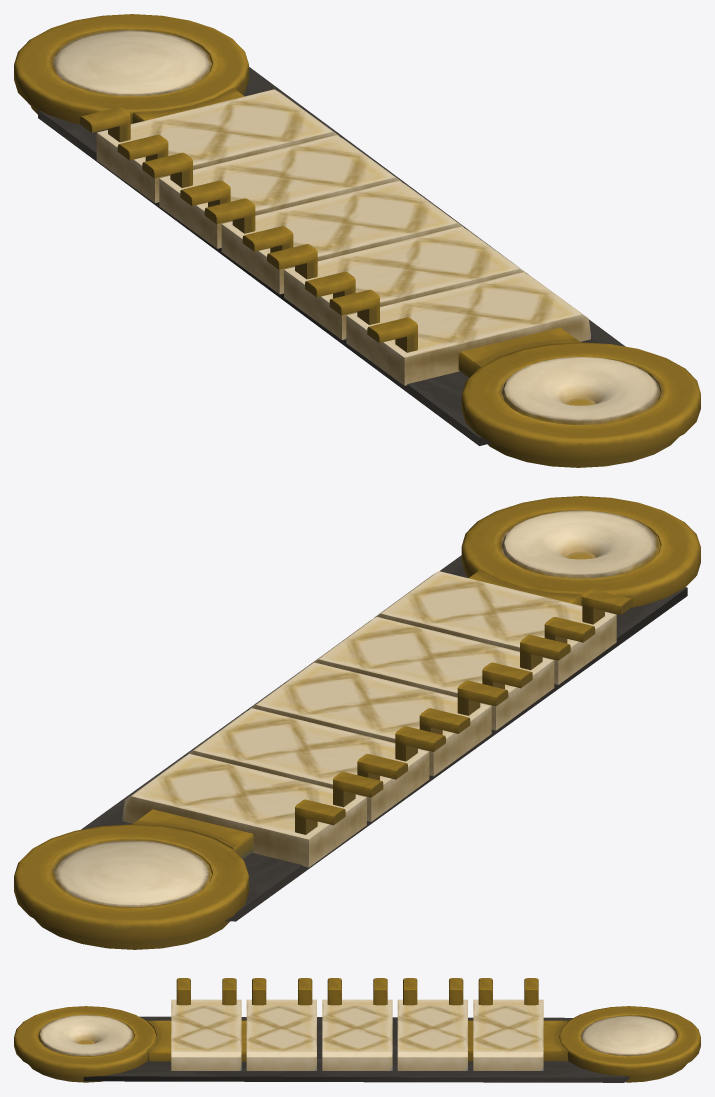
The model's file is LeftEssenceBar.fbx.
The picture shows the model from 3 angles, top to bottom: view 1: azimuth 30°, elevation 25°; view 2: azimuth 150°, elevation 25°; view 3: azimuth 270°, elevation 25°; orthographic projection. The views are drawn at different scales.
Visible parts, largest first — view 1: Box005, Component_Lookout_StoneMd, Component_Lookout_StoneMd002, Box010, Cylinder002; view 2: Box005, Component_Lookout_StoneMd002, Component_Lookout_StoneMd, Box010, Cylinder002; view 3: Box005, Component_Lookout_StoneMd, Component_Lookout_StoneMd002, Cylinder002, Box010.
Part boxes in pixels (bbox=[...]): Box005: bbox=[96, 89, 590, 385]; Component_Lookout_StoneMd: bbox=[458, 327, 700, 467]; Component_Lookout_StoneMd002: bbox=[14, 14, 248, 123]; Box010: bbox=[80, 107, 417, 352]; Cylinder002: bbox=[38, 67, 625, 445]; Box005: bbox=[122, 571, 616, 867]; Component_Lookout_StoneMd002: bbox=[14, 809, 253, 949]; Component_Lookout_StoneMd: bbox=[461, 496, 700, 607]; Box010: bbox=[295, 589, 632, 834]; Cylinder002: bbox=[81, 555, 687, 921]; Box005: bbox=[171, 999, 543, 1070]; Component_Lookout_StoneMd: bbox=[14, 1006, 246, 1082]; Component_Lookout_StoneMd002: bbox=[468, 1006, 700, 1082]; Cylinder002: bbox=[83, 1016, 629, 1082]; Box010: bbox=[176, 978, 538, 1005].
Bounding box in the file's own units: 18.45 × 5.08 × 78.55.
1 material, 1 textured.
